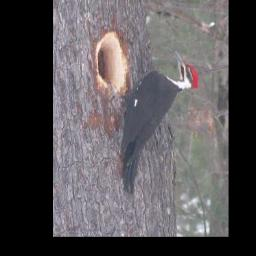Woodpecker: (102, 50, 201, 195)
